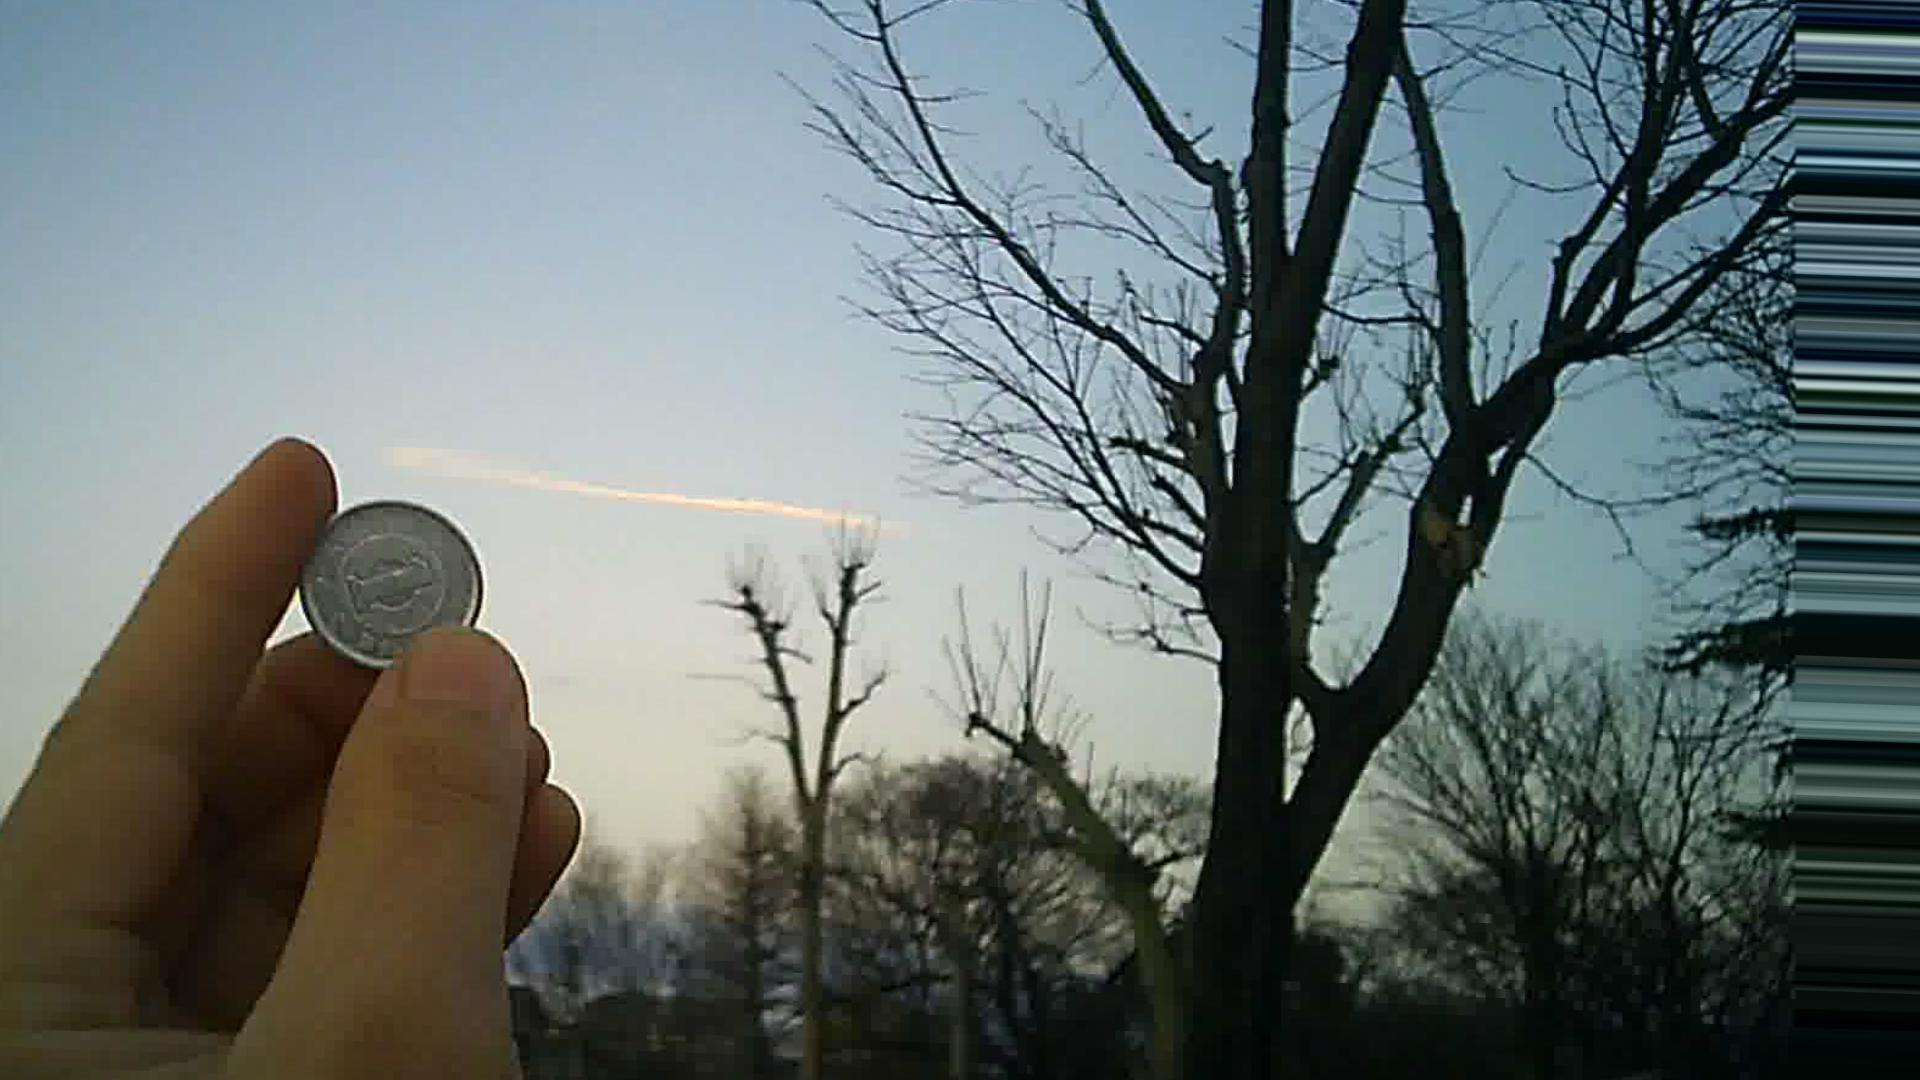1 Yen: (284, 493, 487, 688)
